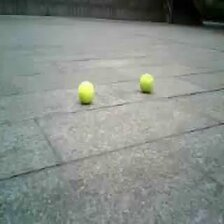tennis: (78, 81, 94, 100), (140, 73, 154, 91)
